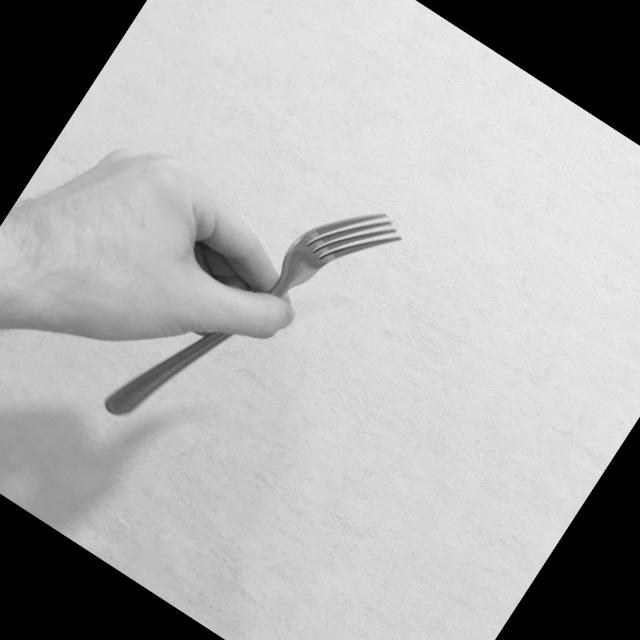fork: (102, 140, 410, 495)
